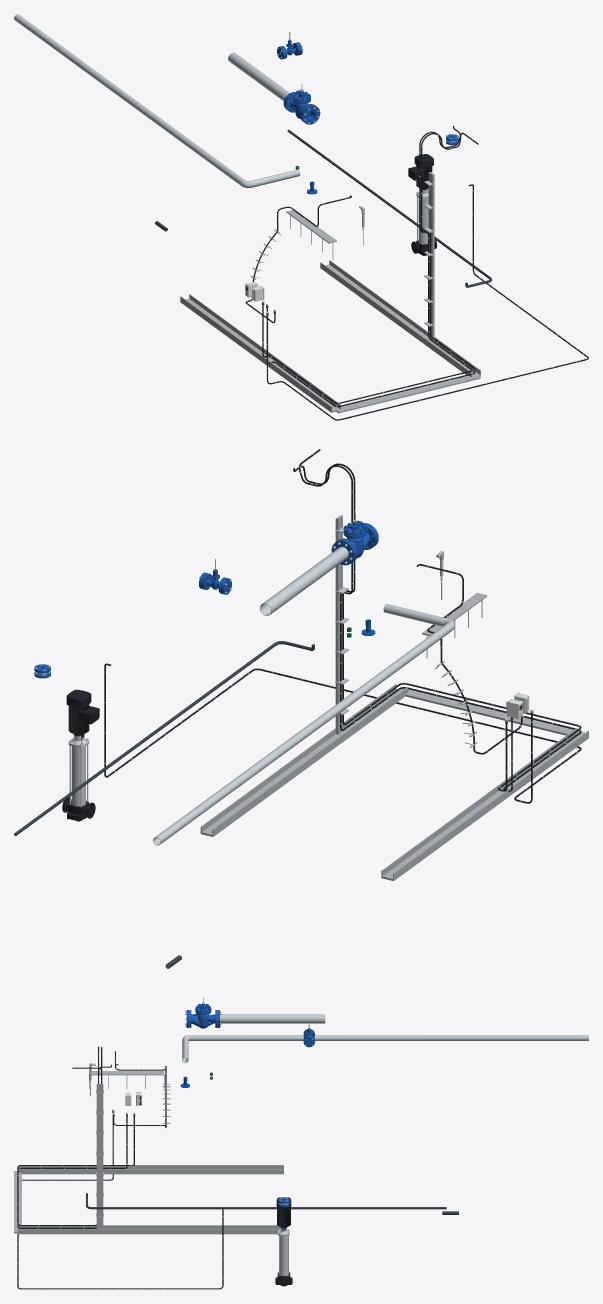
The picture shows the model from 3 angles, top to bottom: view 1: azimuth 30°, elevation 25°; view 2: azimuth 150°, elevation 25°; view 3: azimuth 270°, elevation 25°; orthographic projection. The views are drawn at different scales.
Visible parts, largest first — view 1: cables / zinc, safety_vent_1 / steel, wiring_pump_1 / black, wiring_pressure_switch_1 / black, wiring_pressure_transmitter / black, tds_common / dark, steam_delivery / steel, pump_2 CAD solid 15, gpz CAD solid 0; view 2: cables / zinc, safety_vent_1 / steel, wiring_pump_1 / black, wiring_pressure_transmitter / black, wiring_pressure_switch_1 / black, steam_delivery / steel, tds_common / dark, pump_2 CAD solid 15, gpz CAD solid 0, pump_2 CAD solid 2, cables / steel, wiring_high_level / black; view 3: cables / zinc, safety_vent_1 / steel, tds_common / dark, steam_delivery / steel, wiring_pump_1 / black, wiring_pressure_switch_1 / black, gpz CAD solid 0, wiring_pressure_transmitter / black, pump_2 CAD solid 2.
Part boxes in pixels (x1,y1,x2,y2): cables / zinc: (180, 172, 480, 413); safety_vent_1 / steel: (14, 14, 300, 188); wiring_pump_1 / black: (267, 184, 588, 420); wiring_pressure_switch_1 / black: (266, 131, 478, 407); wiring_pressure_transmitter / black: (262, 126, 475, 403); tds_common / dark: (287, 129, 492, 287); steam_delivery / steel: (228, 52, 289, 101); pump_2 CAD solid 15: (408, 154, 433, 188); gpz CAD solid 0: (285, 84, 314, 121); cables / zinc: (200, 515, 588, 880); safety_vent_1 / steel: (153, 603, 454, 845); wiring_pump_1 / black: (104, 663, 581, 803); wiring_pressure_transmitter / black: (293, 463, 581, 791); wiring_pressure_switch_1 / black: (299, 449, 581, 791); steam_delivery / steel: (260, 547, 348, 615); tds_common / dark: (14, 641, 314, 835); pump_2 CAD solid 15: (66, 689, 99, 734); gpz CAD solid 0: (338, 512, 376, 560); pump_2 CAD solid 2: (71, 746, 85, 806); cables / steel: (335, 526, 482, 747); wiring_high_level / black: (416, 564, 522, 754); cables / zinc: (14, 1071, 283, 1234); safety_vent_1 / steel: (182, 1035, 588, 1062); tds_common / dark: (86, 1193, 446, 1209); steam_delivery / steel: (220, 1014, 325, 1023); wiring_pump_1 / black: (17, 1116, 223, 1289); wiring_pressure_switch_1 / black: (17, 1046, 127, 1228); gpz CAD solid 0: (189, 997, 217, 1028); wiring_pressure_transmitter / black: (17, 1046, 134, 1225); pump_2 CAD solid 2: (279, 1236, 288, 1276).
Size of the model in its own units: 3.67 by 2.95 by 7.07.
